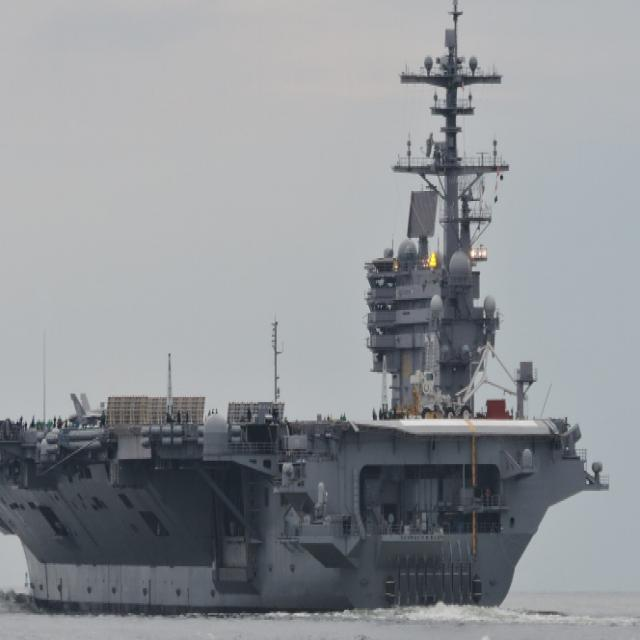Portanaves: (1, 1, 615, 616)
